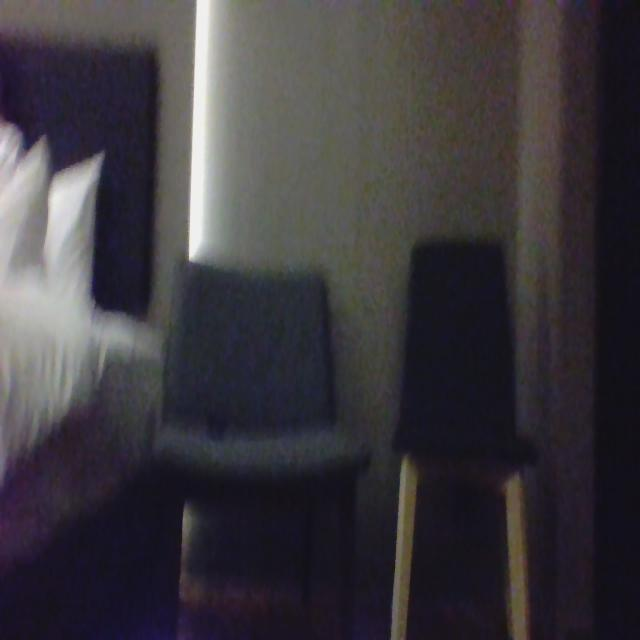empty: (166, 244, 345, 442), (392, 248, 494, 467)
